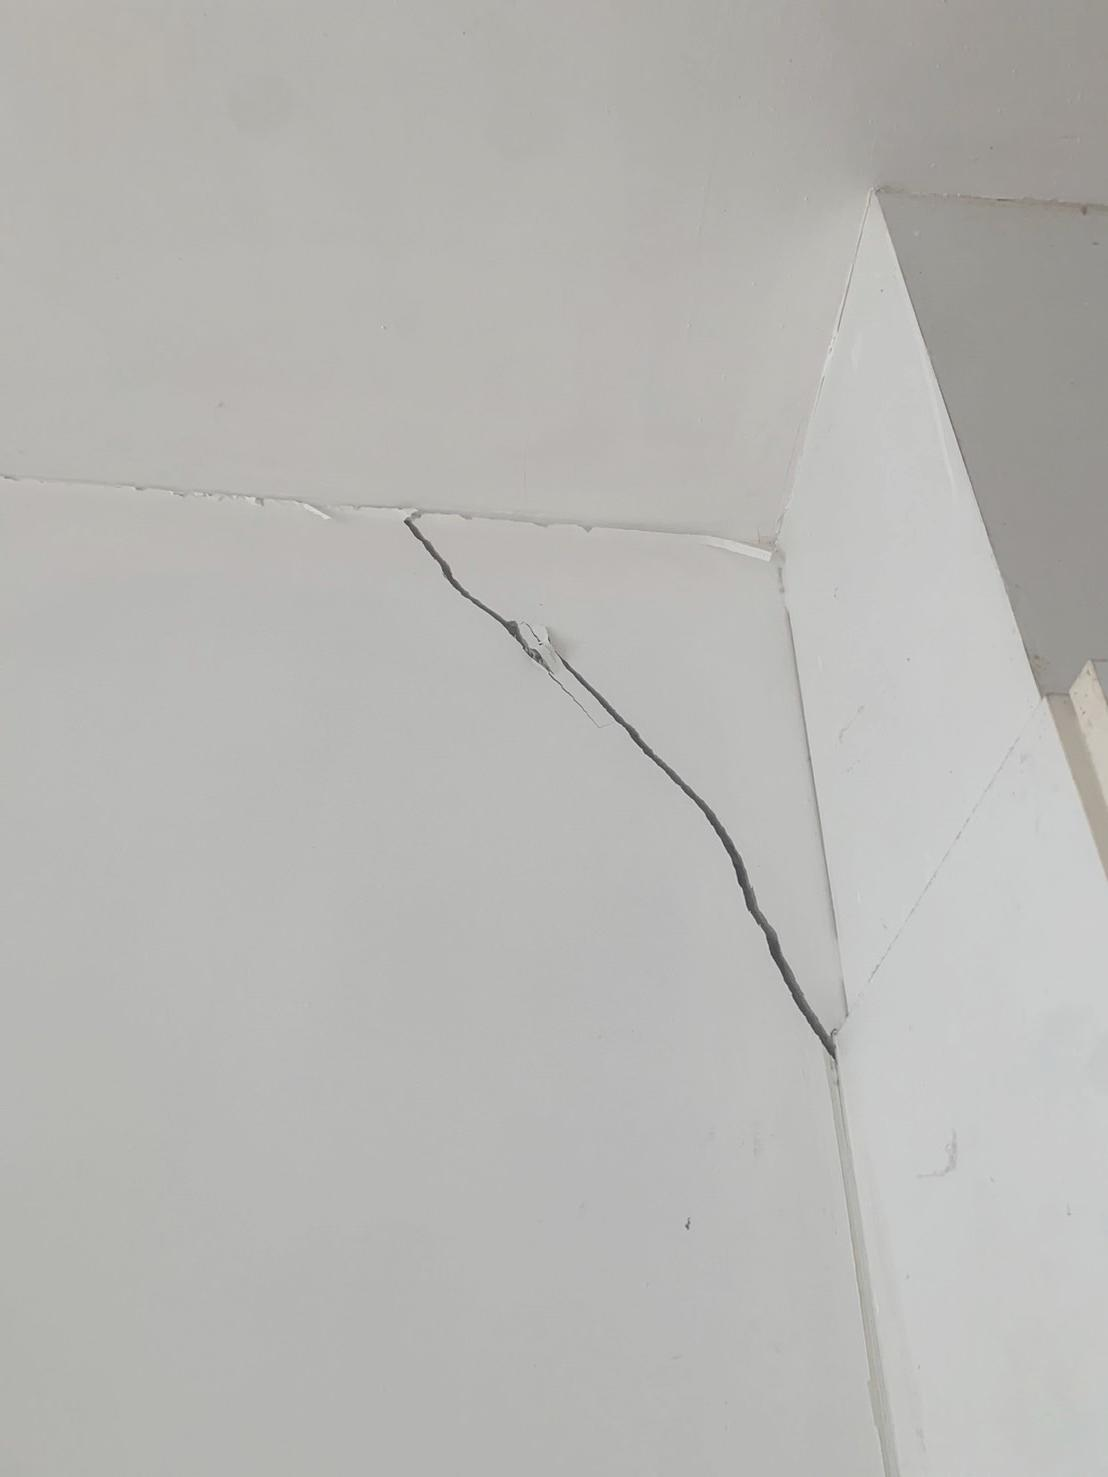High: (381, 493, 871, 1148)
